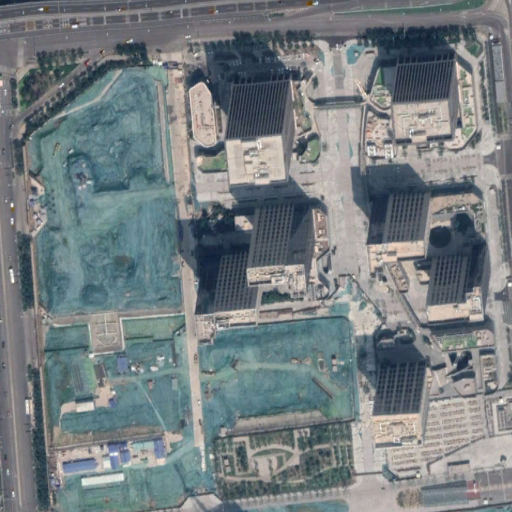cw: (24, 59, 191, 512), (196, 315, 360, 437)
